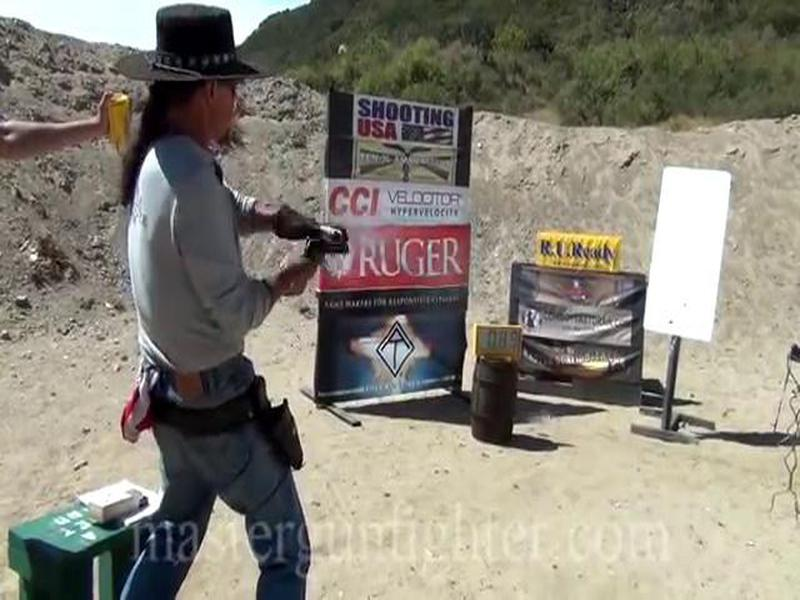Revolver: (286, 227, 358, 302)
